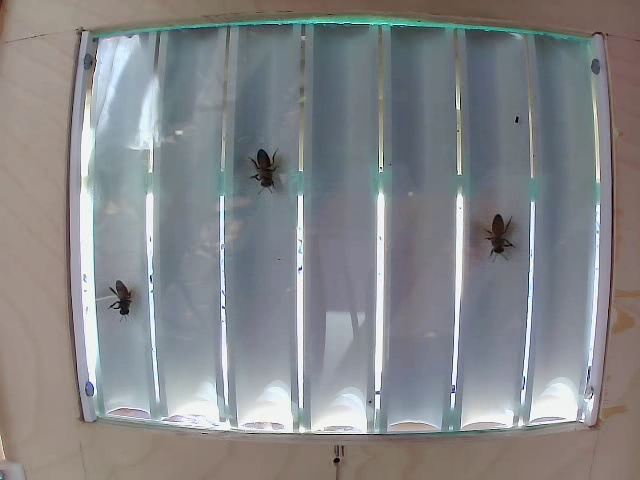bee: (481, 204, 530, 253), (244, 148, 284, 208), (92, 278, 143, 318)
